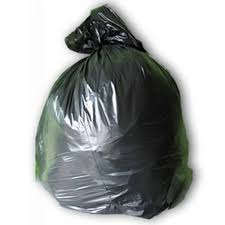Trash: (22, 3, 203, 221)
